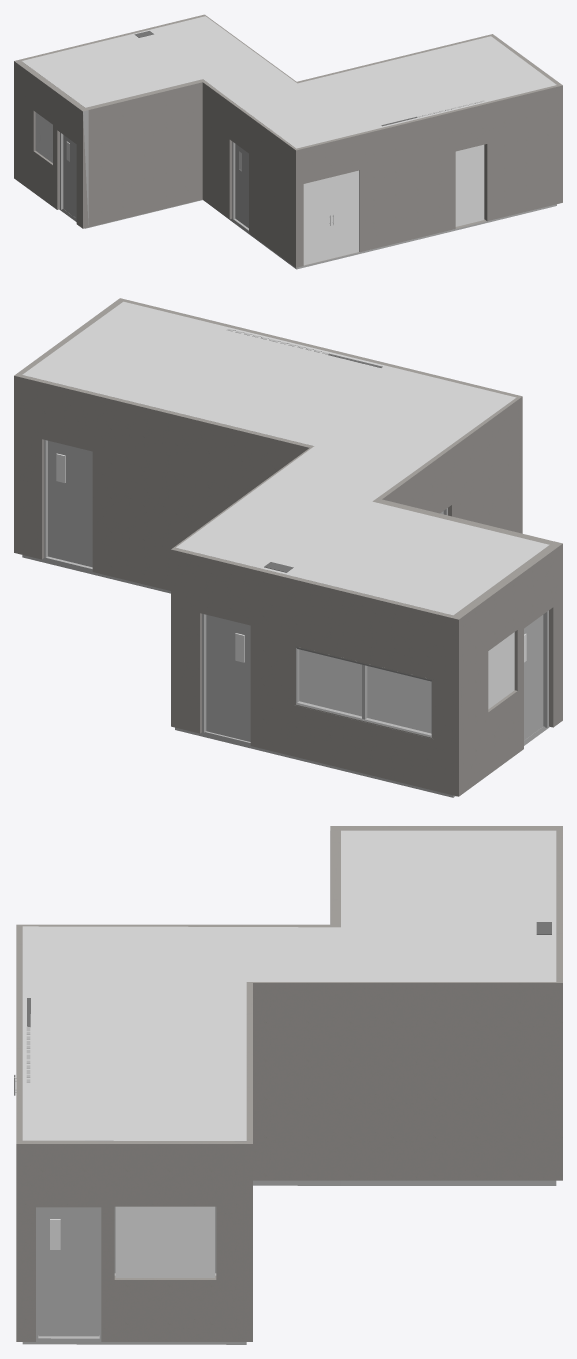
Rendered from Lobby + Waiting Room.fbx.
3 renders of one model, top to bottom at view 1: azimuth 30°, elevation 25°; view 2: azimuth 150°, elevation 25°; view 3: azimuth 270°, elevation 25°, orthographic. The views are drawn at different scales.
Parts seen in each view (by area): view 1: tembok teralis; view 2: tembok teralis; view 3: tembok teralis.
Part boxes in pixels (x1,y1,x2,y2): tembok teralis: (14, 14, 562, 269); tembok teralis: (14, 298, 562, 797); tembok teralis: (14, 826, 562, 1344).
Size of the model in its own units: 1033 by 309 by 754.
